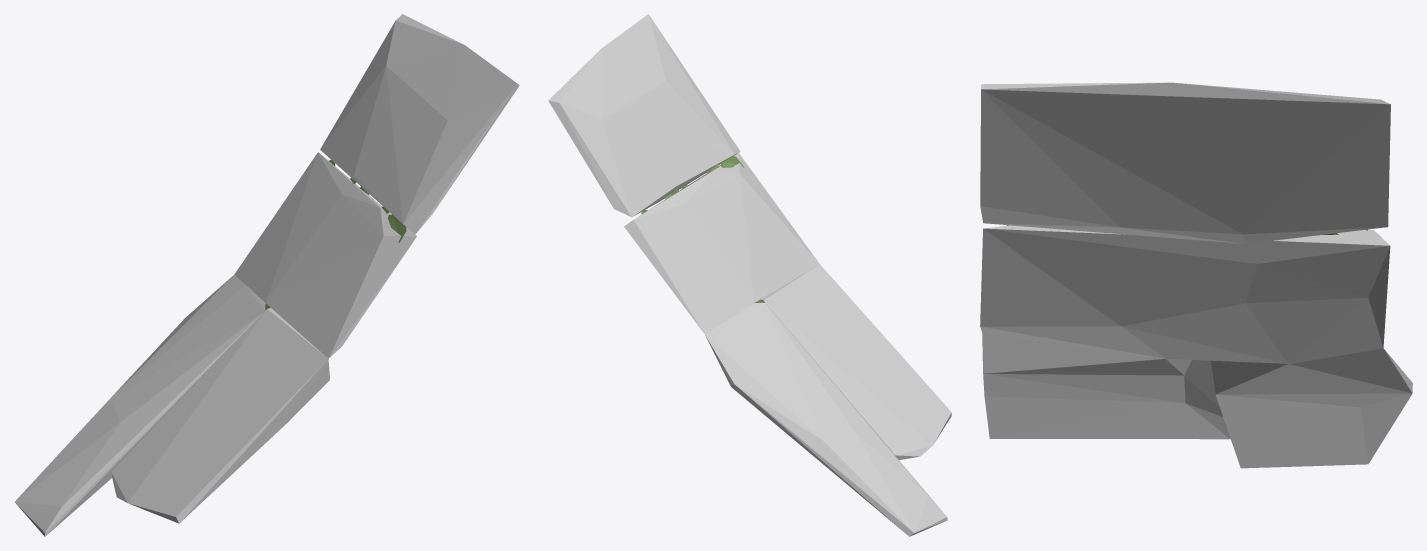
The model's file is SM_Env_Vines_Preset_Roof_Concave_02.fbx.
3 renders of one model, left to right at view 1: azimuth 30°, elevation 25°; view 2: azimuth 150°, elevation 25°; view 3: azimuth 270°, elevation 25°, orthographic. The views are drawn at different scales.
Visible parts, largest first — view 1: SM_Env_Vines_Preset_Roof_Concave_02_ConvexHulls; view 2: SM_Env_Vines_Preset_Roof_Concave_02_ConvexHulls; view 3: SM_Env_Vines_Preset_Roof_Concave_02_ConvexHulls.
Boxes of the visible parts, x1,y1,x2,y2 form: SM_Env_Vines_Preset_Roof_Concave_02_ConvexHulls: (15, 14, 519, 536); SM_Env_Vines_Preset_Roof_Concave_02_ConvexHulls: (548, 14, 951, 536); SM_Env_Vines_Preset_Roof_Concave_02_ConvexHulls: (980, 82, 1412, 468).
Bounding box in the file's own units: 221 × 113 × 213.
Materials: 3 (2 with a texture image).
